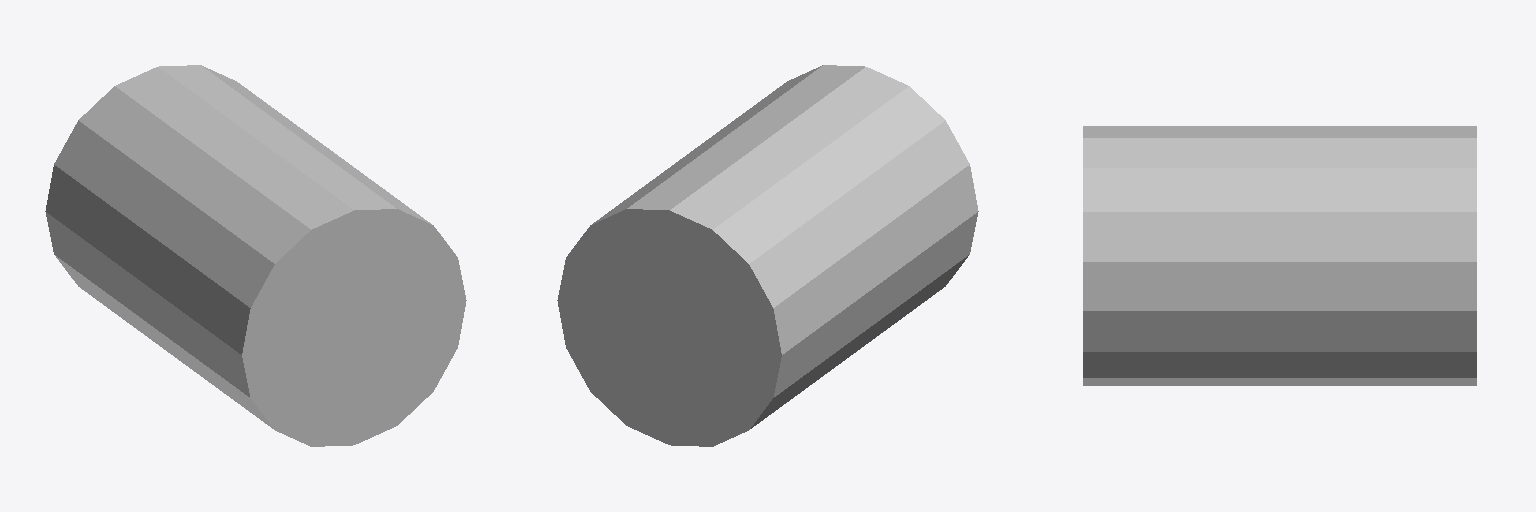
Rendered from piston_light.obj.
3 views of the same model, side by side, from view 1: azimuth 30°, elevation 25°; view 2: azimuth 150°, elevation 25°; view 3: azimuth 270°, elevation 25° (orthographic).
Parts seen in each view (by area): view 1: Cylinder; view 2: Cylinder; view 3: Cylinder.
Part boxes in pixels (left/top/right/bottom): Cylinder: left=45, top=65, right=466, bottom=446; Cylinder: left=557, top=65, right=978, bottom=446; Cylinder: left=1083, top=126, right=1476, bottom=385.
Size of the model in its own units: 0.0928 by 0.0928 by 0.1407.